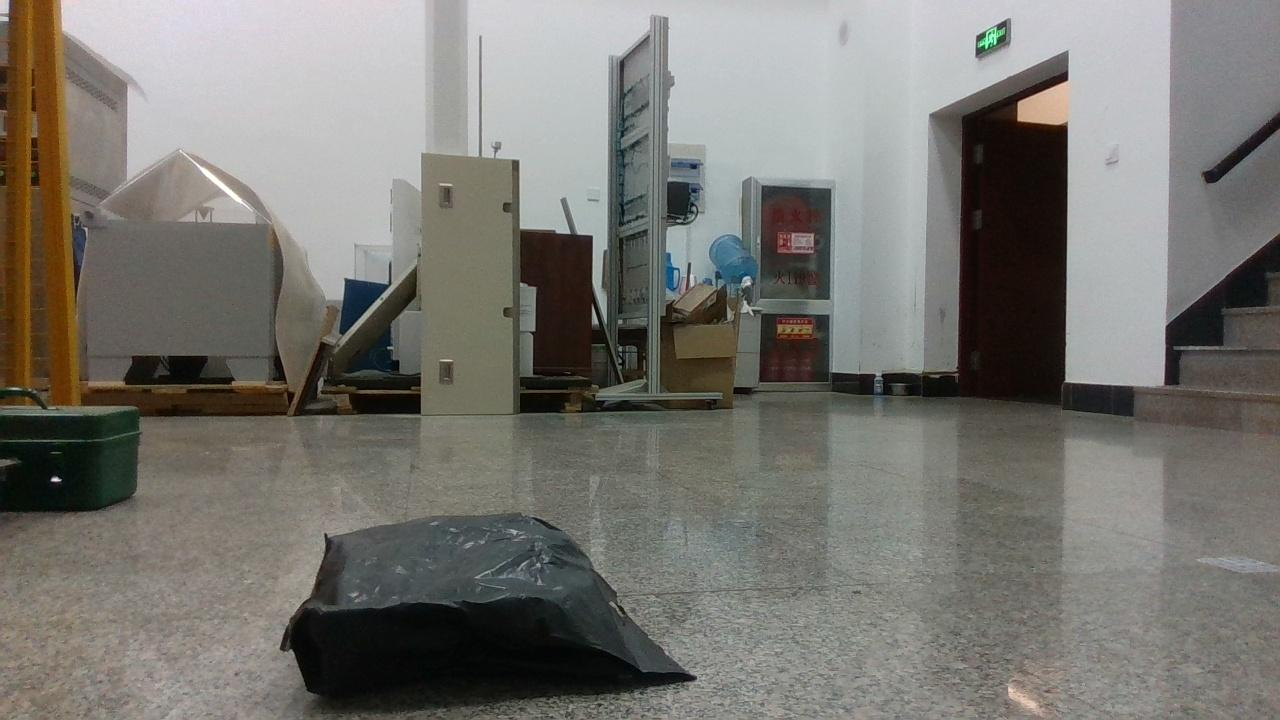package: (280, 512, 692, 694)
